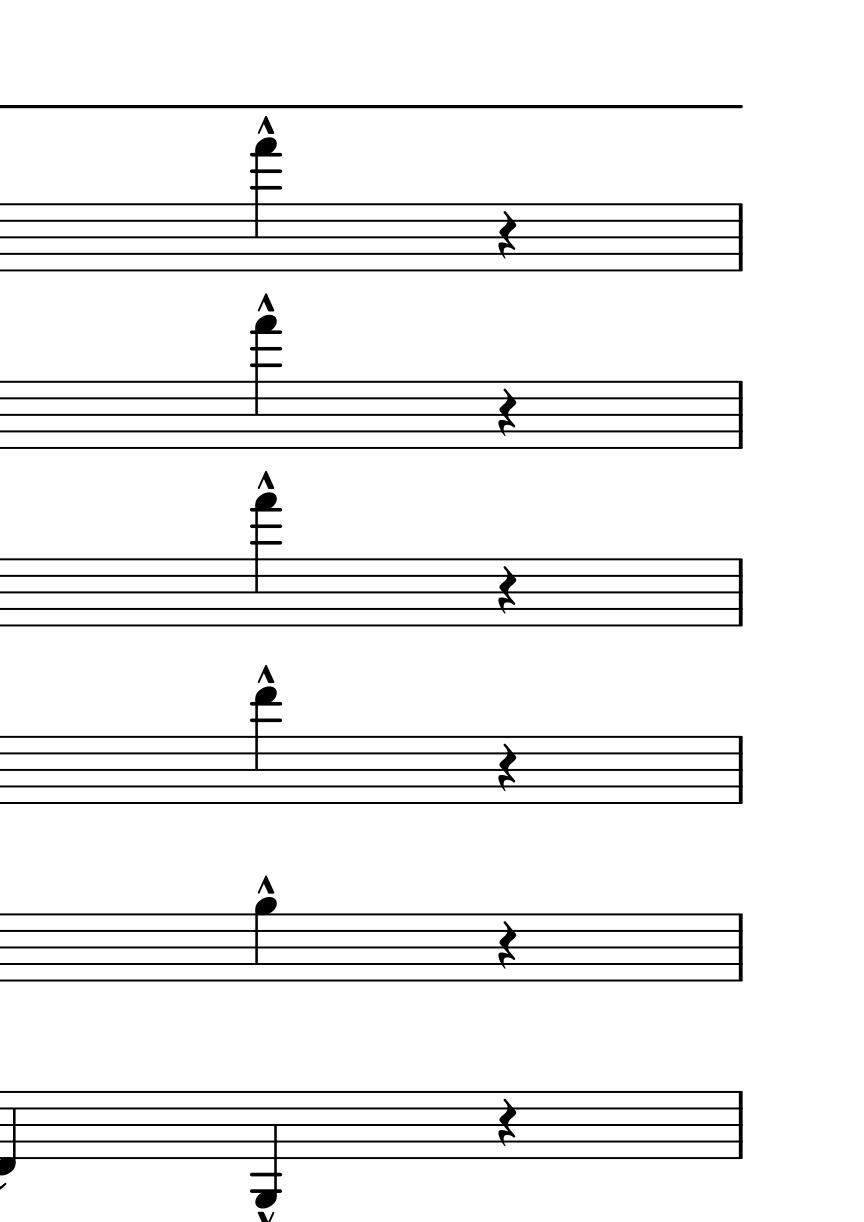4_-5: (253, 1086, 281, 1209)
4_13: (252, 685, 281, 806)
4_15: (250, 315, 282, 453), (250, 492, 281, 629), (252, 137, 280, 272)
4_9: (251, 896, 278, 984)
Marcato_above: (254, 114, 277, 138), (254, 875, 277, 897), (256, 663, 277, 685), (255, 291, 275, 313), (255, 469, 275, 489)
Rests4: (494, 1096, 521, 1151), (494, 918, 519, 975), (493, 383, 519, 434), (494, 742, 519, 795), (493, 565, 520, 613), (495, 210, 519, 262)
Single_barline: (720, 1090, 753, 1158), (724, 736, 756, 803), (725, 557, 755, 627), (721, 382, 753, 447), (726, 913, 754, 982), (728, 204, 752, 271)
